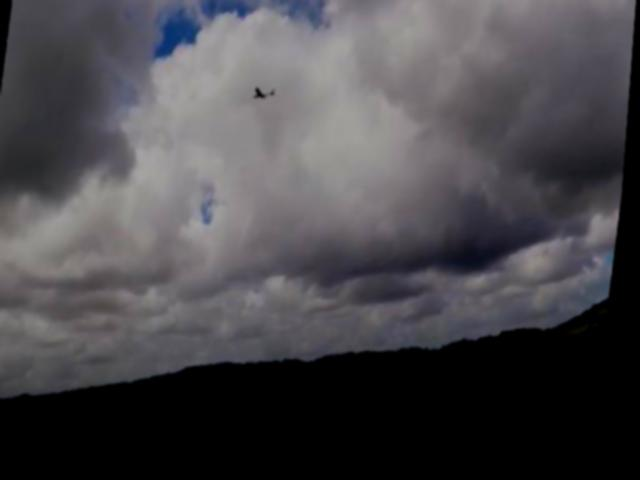iha: (251, 89, 277, 109)
